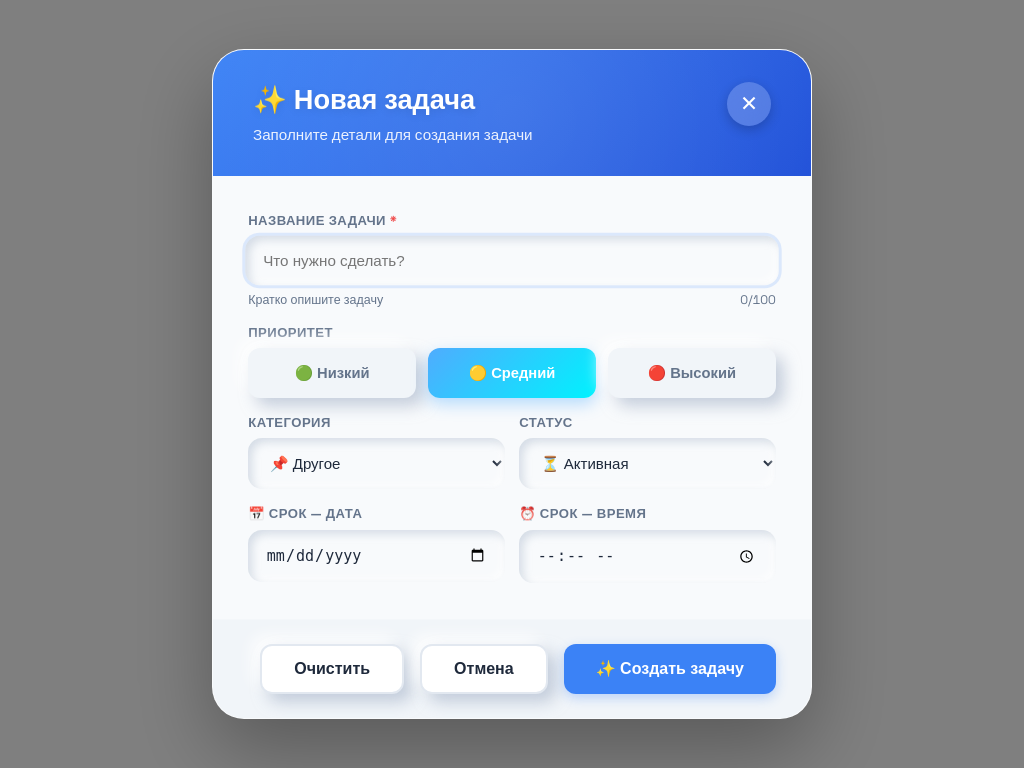
Scenario: AddItemModal › shows validation error when title is empty
Step 1. Click the button "✨ Создать задачу" → click(670, 668), box x1=564 y1=644 x2=776 y2=694
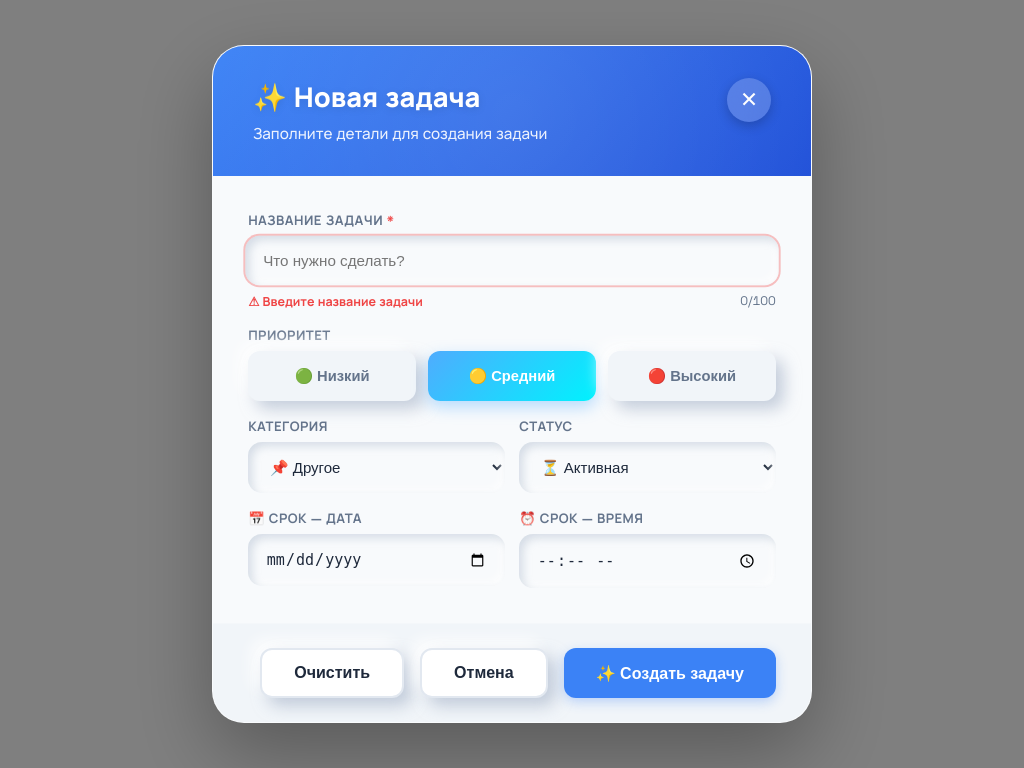
Expected: the text "⚠ Введите название задачи" is shown, x1=248 y1=292 x2=423 y2=310
